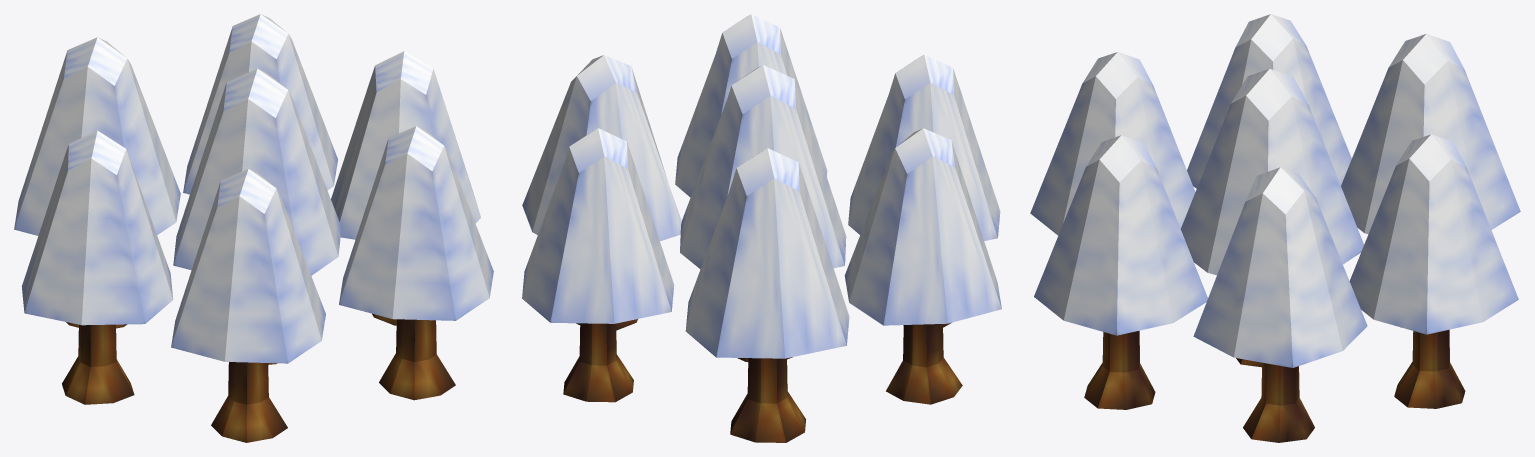
Rendered from Poly_World_Map_Land_Tree_02_Snow.obj.
3 renders of one model, left to right at view 1: azimuth 30°, elevation 25°; view 2: azimuth 150°, elevation 25°; view 3: azimuth 270°, elevation 25°, orthographic.
Parts seen in each view (by area): view 1: Cube.004_Cube.045, Cube.005_Cube.046; view 2: Cube.004_Cube.045, Cube.005_Cube.046; view 3: Cube.004_Cube.045, Cube.005_Cube.046.
Part boxes in pixels (<box>): Cube.004_Cube.045: <box>14,14,493,363</box>; Cube.005_Cube.046: <box>62,313,455,442</box>; Cube.004_Cube.045: <box>522,14,1001,358</box>; Cube.005_Cube.046: <box>563,319,962,442</box>; Cube.004_Cube.045: <box>1030,14,1520,367</box>; Cube.005_Cube.046: <box>1084,329,1465,442</box>.
Bounding box in the file's own units: 1.19 × 0.6938 × 1.08.
Materials: 1 (1 with a texture image).
